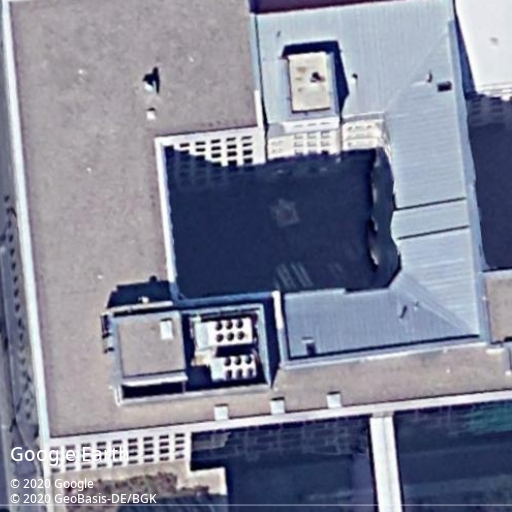Chiller: (207, 317, 253, 348), (209, 353, 259, 381)
